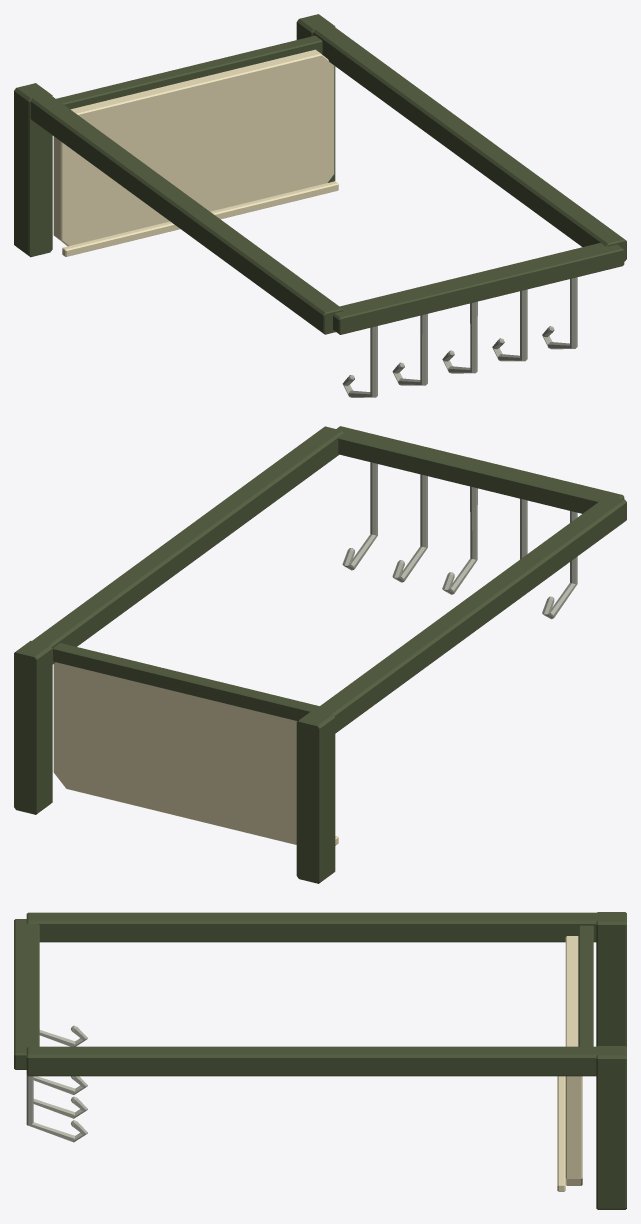
File: fixture_10_cleaning_tool_rack.glb
The picture shows the model from 3 angles, top to bottom: view 1: azimuth 30°, elevation 25°; view 2: azimuth 150°, elevation 25°; view 3: azimuth 270°, elevation 25°; orthographic projection. The views are drawn at different scales.
Visible parts, largest first — view 1: fixture_10_cleaning_tool_rack; view 2: fixture_10_cleaning_tool_rack; view 3: fixture_10_cleaning_tool_rack.
Part boxes in pixels (box(x1,y1,x2,y2)): fixture_10_cleaning_tool_rack: box(14, 14, 626, 397); fixture_10_cleaning_tool_rack: box(14, 426, 626, 883); fixture_10_cleaning_tool_rack: box(14, 912, 626, 1209).
Size of what is drawn, in the model's own units: 1.01 by 0.5 by 1.8.
